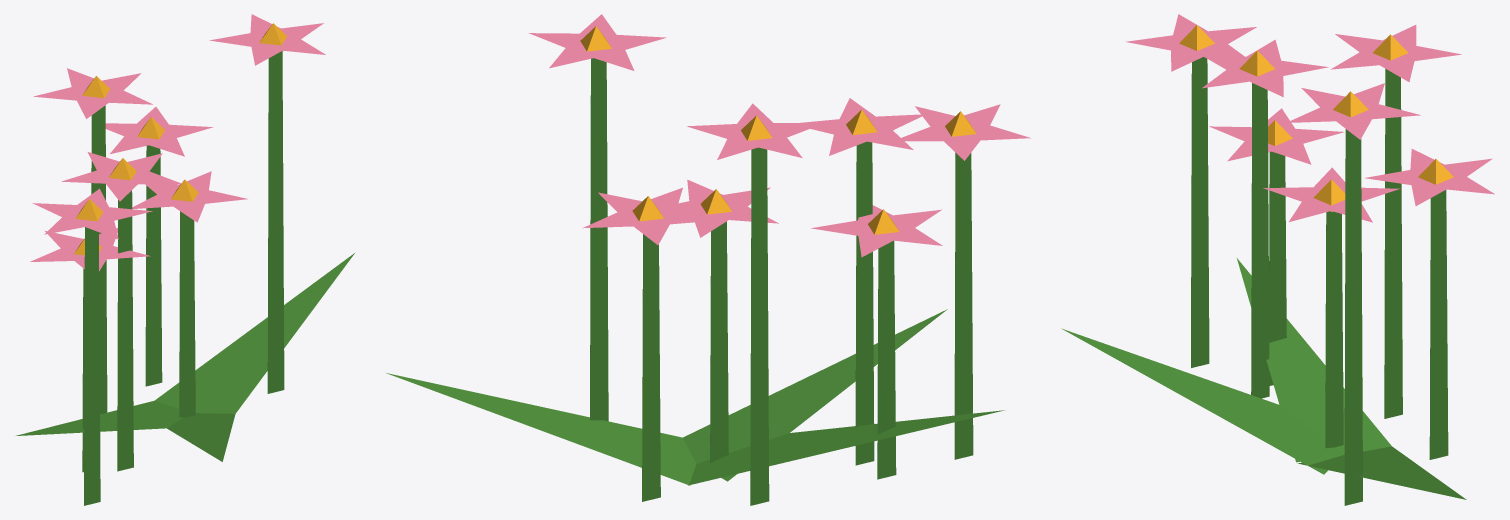
File: Meadow_Flowers0.fbx
The picture shows the model from 3 angles, left to right: view 1: azimuth 30°, elevation 25°; view 2: azimuth 150°, elevation 25°; view 3: azimuth 270°, elevation 25°; orthographic projection. The views are drawn at different scales.
Visible parts, largest first — view 1: Meadow_Flowers0; view 2: Meadow_Flowers0; view 3: Meadow_Flowers0.
Part boxes in pixels (left/top/right/bottom): Meadow_Flowers0: left=16, top=14, right=355, bottom=505; Meadow_Flowers0: left=386, top=14, right=1030, bottom=505; Meadow_Flowers0: left=1061, top=14, right=1494, bottom=505.
Bounding box in the file's own units: 0.5566 × 0.439 × 0.4219.
